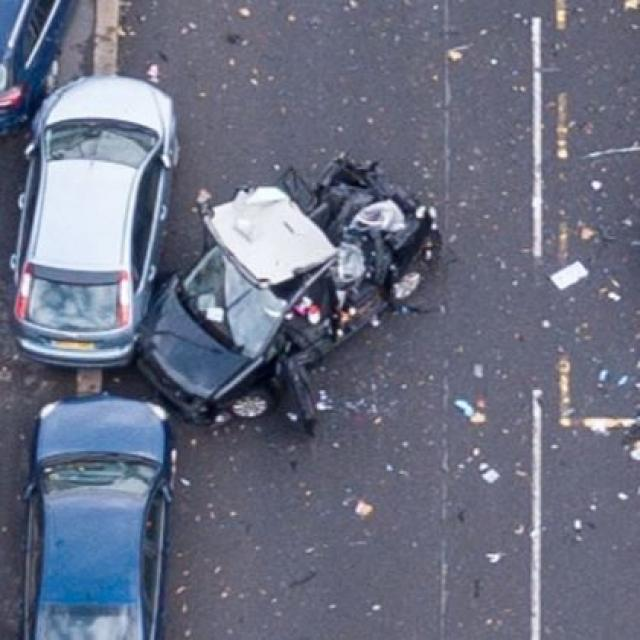traffic_incident: (136, 157, 442, 431)
